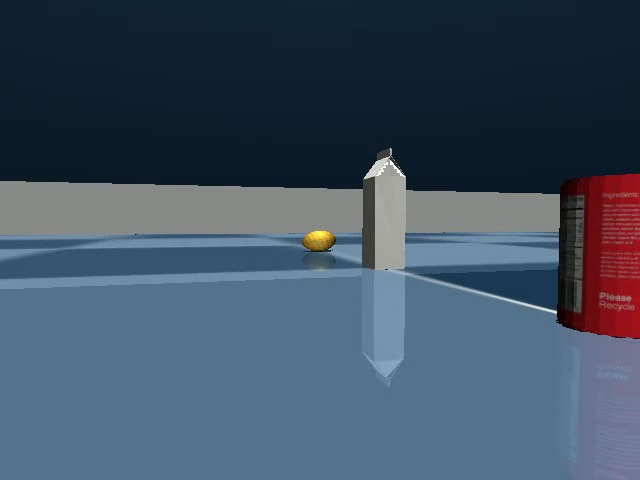can: (550, 164, 640, 351)
lemon: (296, 227, 341, 256)
milk: (355, 143, 415, 277)
